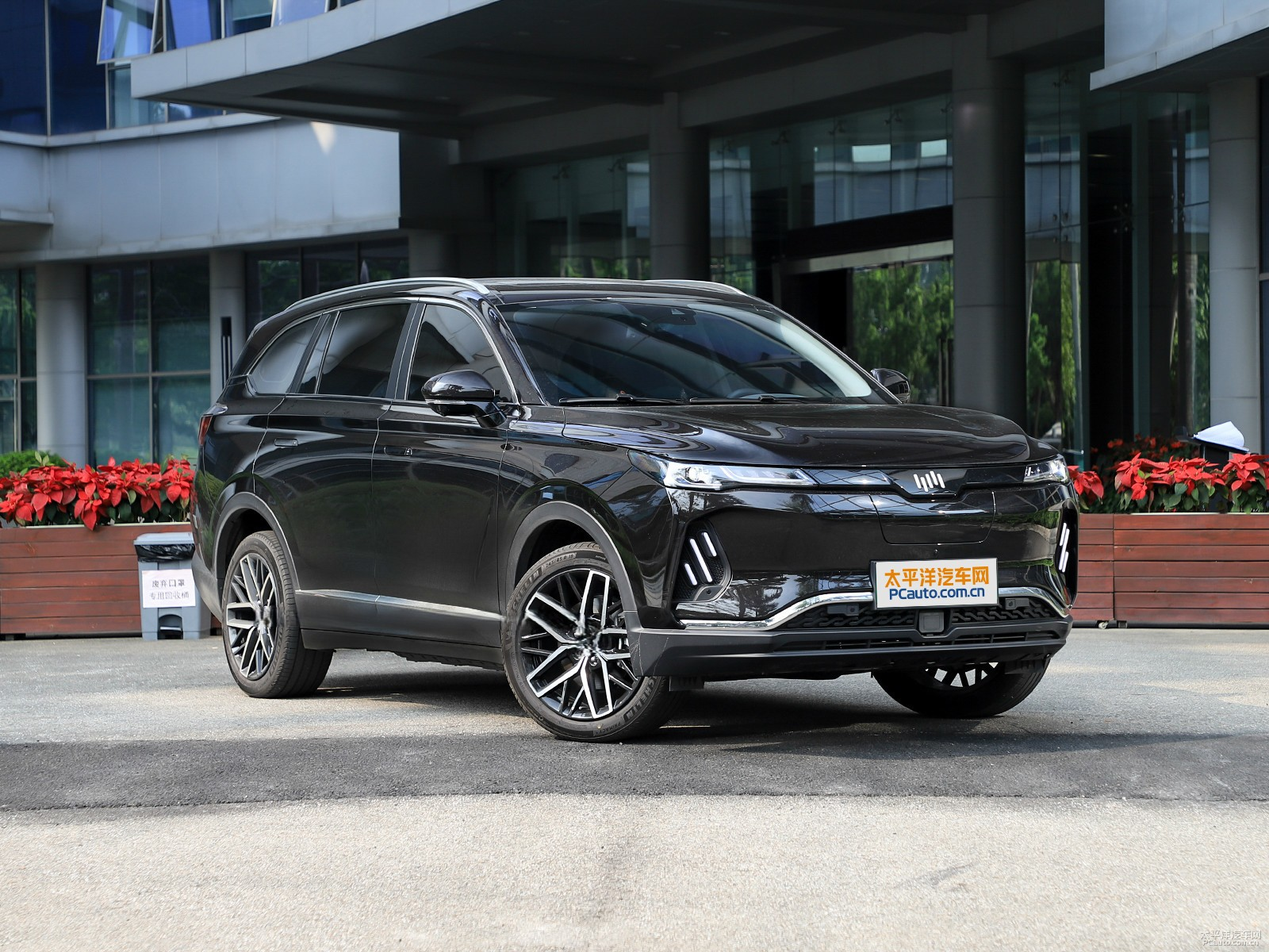WELTMEISTER: (914, 471, 945, 491)
